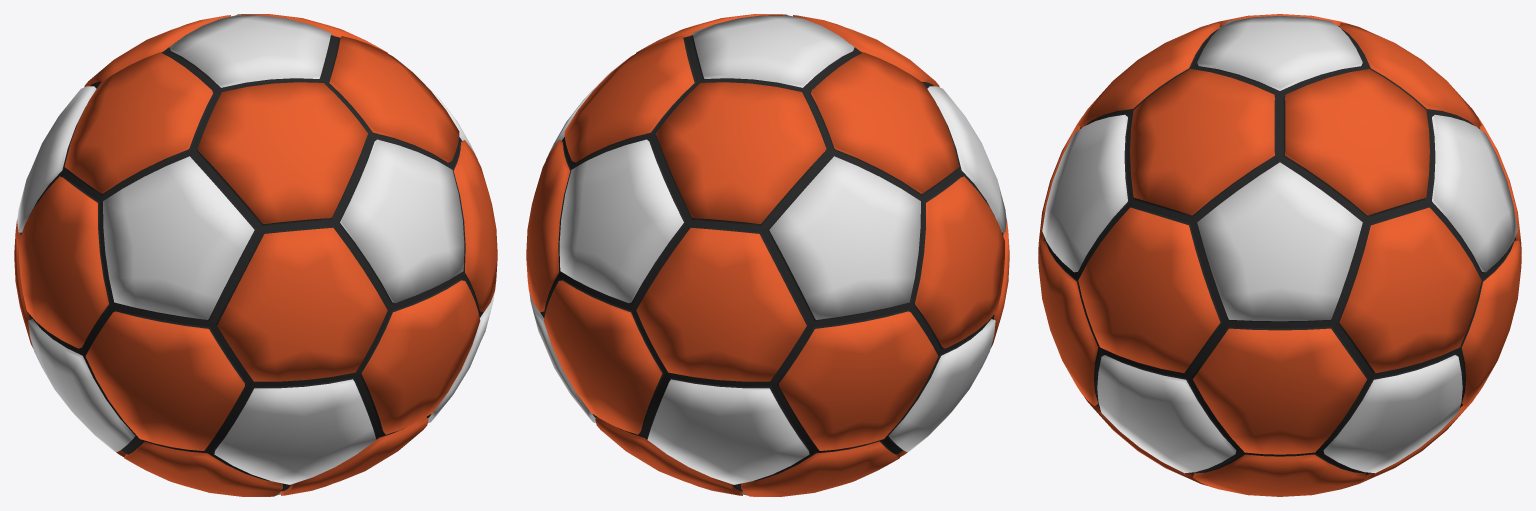
Rendered from ball_model.glb.
The picture shows the model from 3 angles, left to right: view 1: azimuth 30°, elevation 25°; view 2: azimuth 150°, elevation 25°; view 3: azimuth 270°, elevation 25°; orthographic projection.
Parts seen in each view (by area): view 1: Icosphere; view 2: Icosphere; view 3: Icosphere.
Part boxes in pixels (<box>): Icosphere: <box>14,14,497,496</box>; Icosphere: <box>526,14,1009,496</box>; Icosphere: <box>1038,14,1521,496</box>.
Size of the model in its own units: 2 by 2 by 2.
